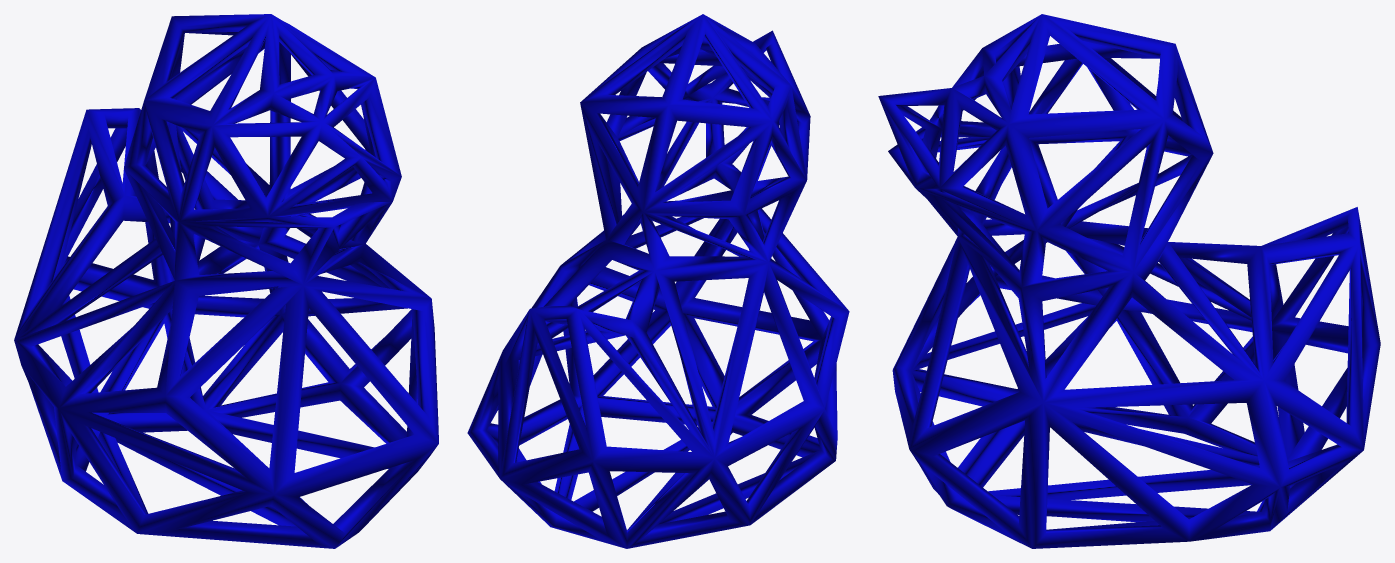
Rendered from duck_wireframe.obj.
The picture shows the model from 3 angles, left to right: view 1: azimuth 30°, elevation 25°; view 2: azimuth 150°, elevation 25°; view 3: azimuth 270°, elevation 25°; orthographic projection. The views are drawn at different scales.
Visible parts, largest first — view 1: Duck.002; view 2: Duck.002; view 3: Duck.002.
Boxes of the visible parts, x1,y1,x2,y2 form: Duck.002: (14,14,438,548); Duck.002: (467,14,849,548); Duck.002: (878,14,1380,548).
Size of the model in its own units: 0.7763 by 1.12 by 1.04.
